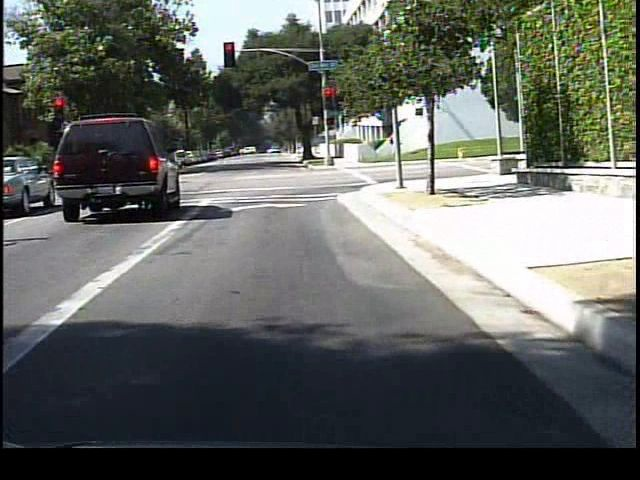person: (385, 127, 405, 166)
